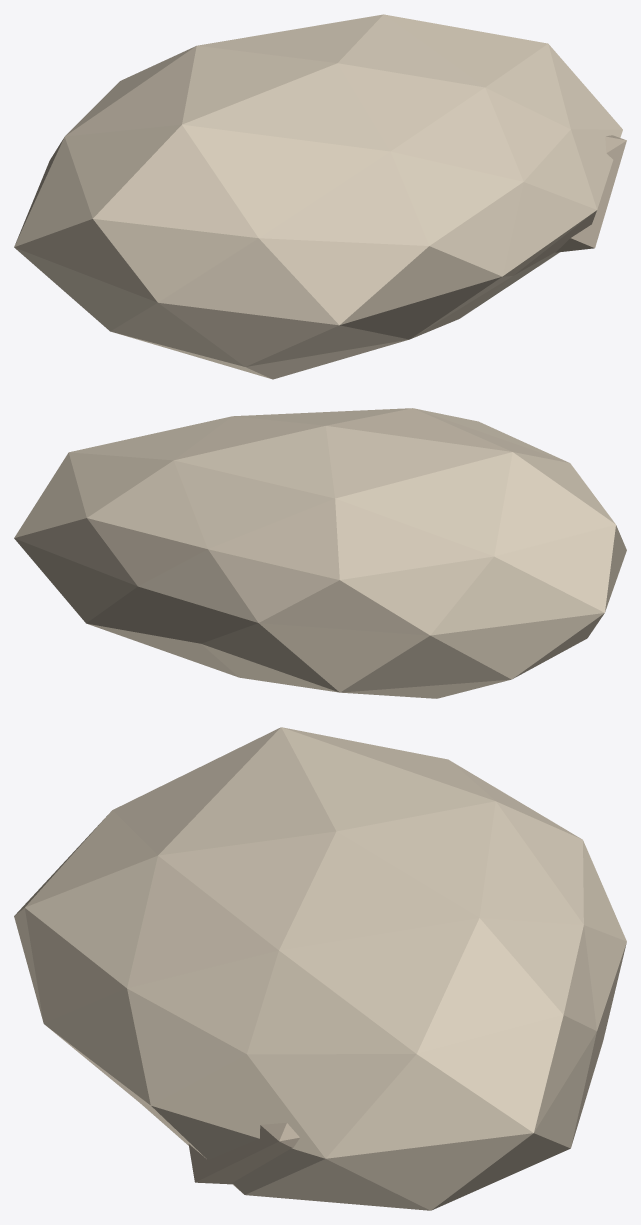
File: campo_rock_granite_0.glb
3 renders of one model, top to bottom at view 1: azimuth 30°, elevation 25°; view 2: azimuth 150°, elevation 25°; view 3: azimuth 270°, elevation 25°, orthographic. The views are drawn at different scales.
Visible parts, largest first — view 1: campo_rock_granite_0.glb; view 2: campo_rock_granite_0.glb; view 3: campo_rock_granite_0.glb.
Boxes of the visible parts, x1,y1,x2,y2 form: campo_rock_granite_0.glb: (14,14,626,379); campo_rock_granite_0.glb: (14,408,626,698); campo_rock_granite_0.glb: (14,727,626,1210).
Bounding box in the file's own units: 2.44 × 0.9587 × 1.8.
